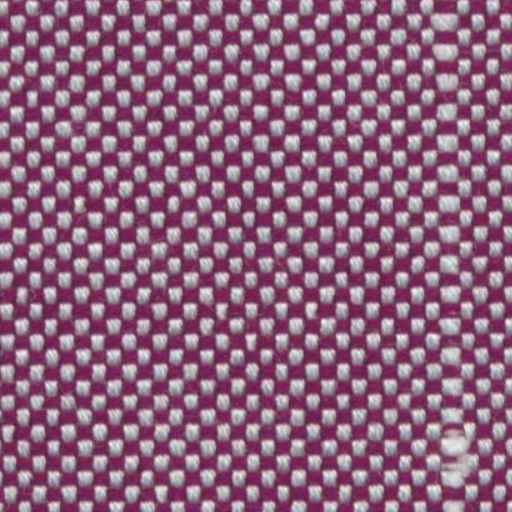DaiSha: (428, 10, 477, 510)
